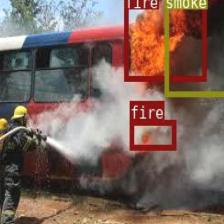fire: (123, 0, 205, 79), (129, 120, 175, 150)
smoke: (164, 0, 224, 96)
